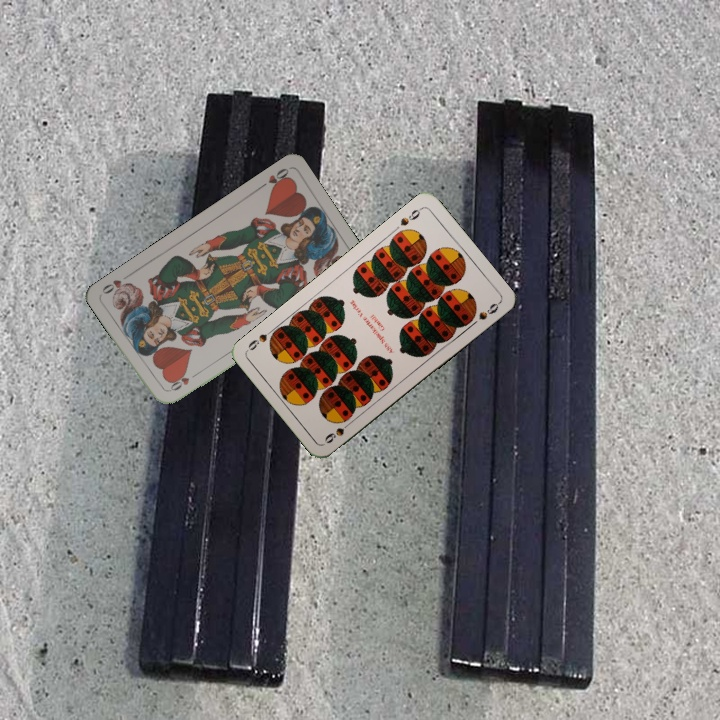HO: (255, 164, 292, 192), (164, 368, 201, 394)
S9: (320, 417, 355, 446), (396, 203, 425, 229)
